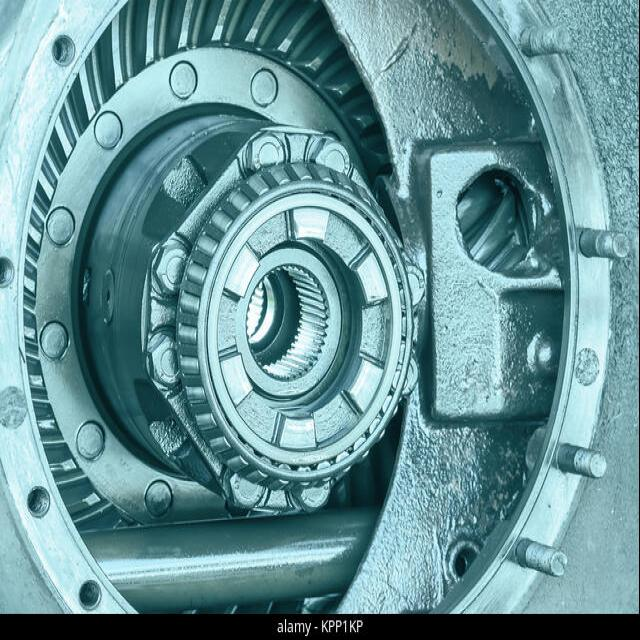Bearing: (178, 161, 414, 494)
Bolt: (144, 329, 180, 387), (246, 131, 288, 172), (223, 472, 266, 511), (154, 243, 186, 293), (310, 136, 350, 176), (294, 487, 332, 511)
